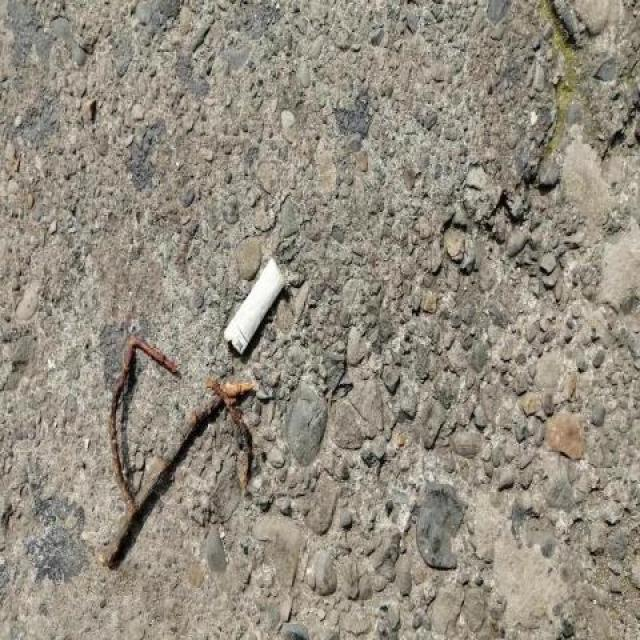non-organic waste: (218, 250, 294, 362)
